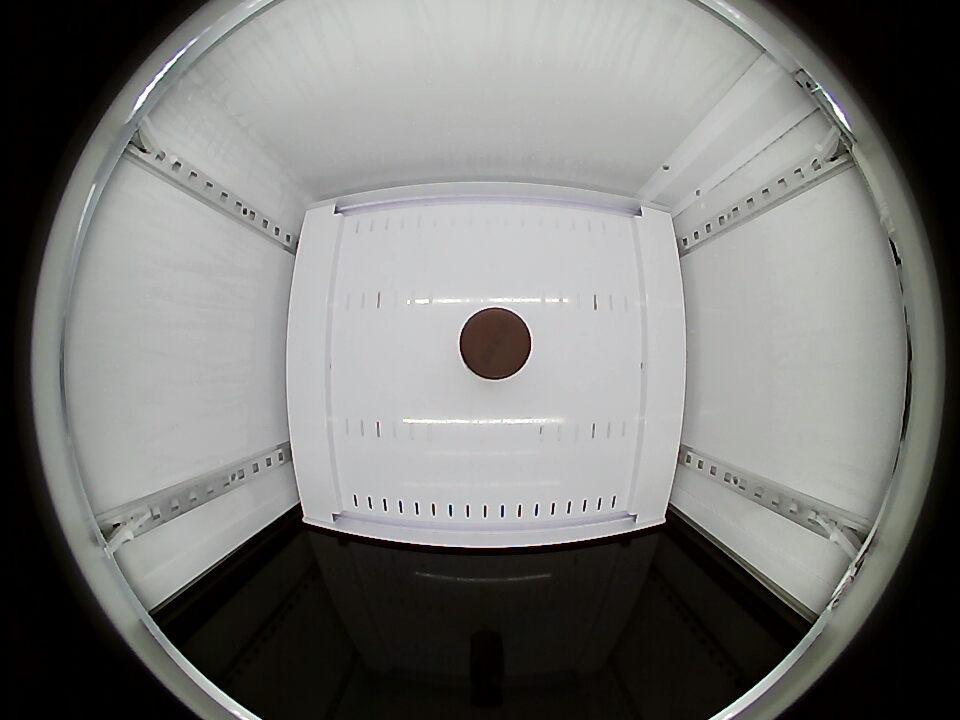lujikafei: (459, 306, 533, 381)
